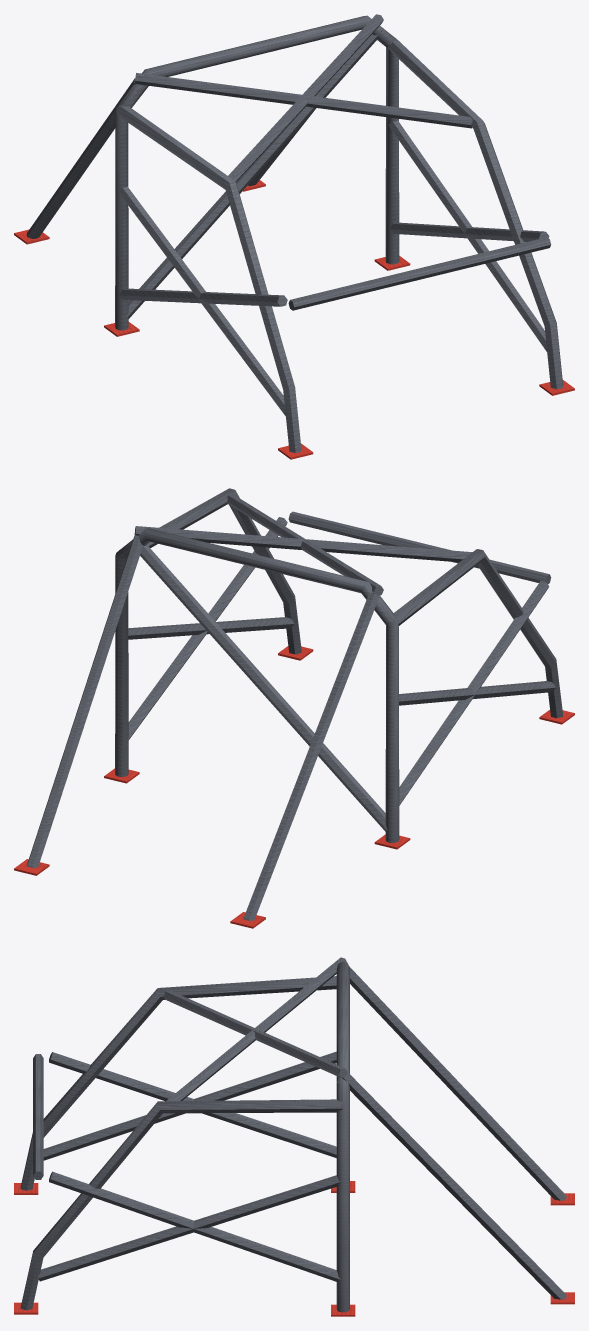
The model's file is gaiola_n4.glb.
3 views of the same model, one above another, from view 1: azimuth 30°, elevation 25°; view 2: azimuth 150°, elevation 25°; view 3: azimuth 270°, elevation 25° (orthographic). The views are drawn at different scales.
Parts seen in each view (by area): view 1: gaiola_n4; view 2: gaiola_n4; view 3: gaiola_n4.
Boxes of the visible parts, x1=… form: gaiola_n4: x1=14, y1=14, x2=574, y2=459; gaiola_n4: x1=14, y1=488, x2=574, y2=928; gaiola_n4: x1=14, y1=957, x2=574, y2=1316.
Size of the model in its own units: 1.3 by 1.09 by 2.3.
1 material, 1 textured.
